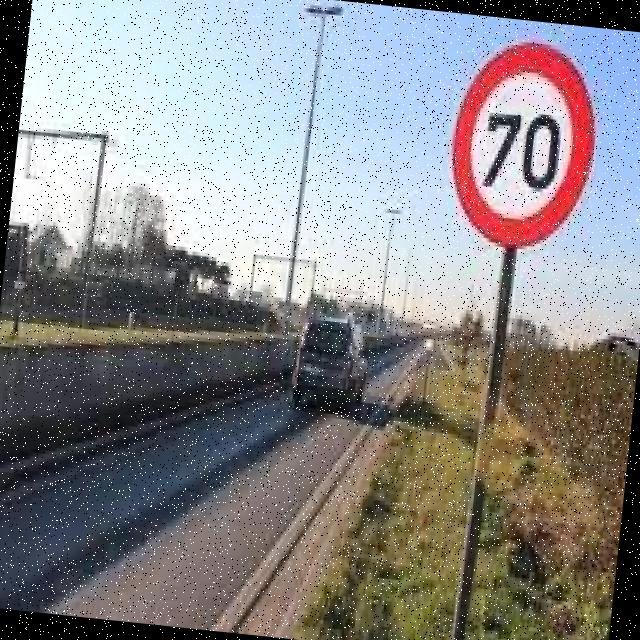speed_limit_70: (440, 29, 608, 258)
